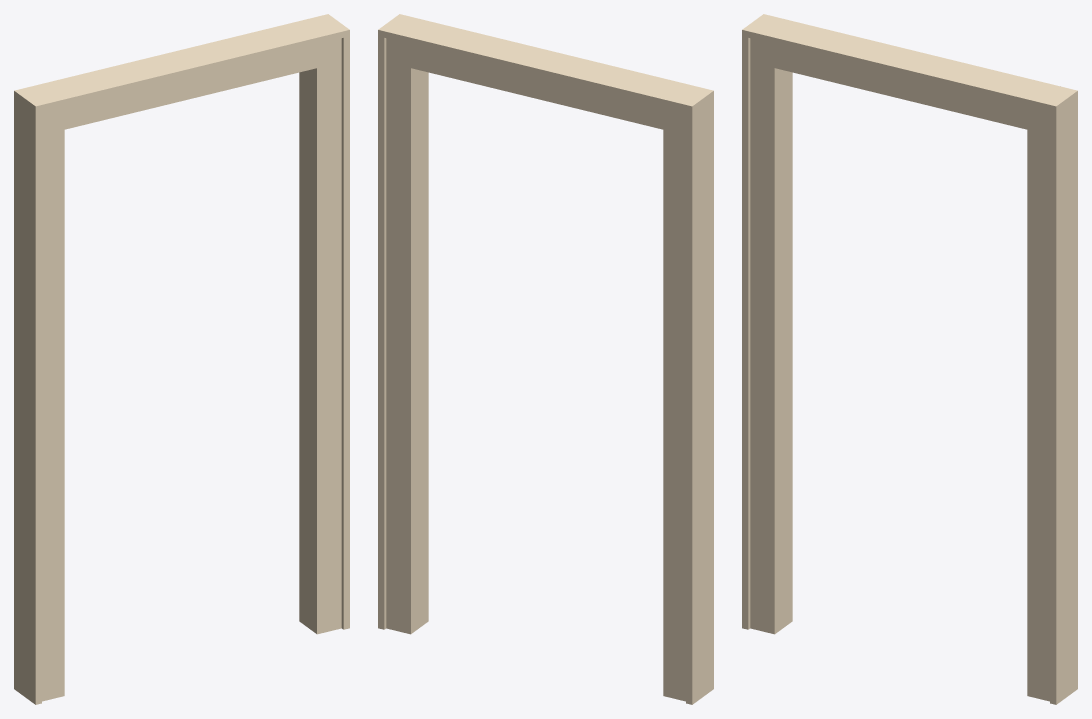
The model's file is M_Sem4_Prop_Tuer_FHaufe.fbx.
3 views of the same model, side by side, from view 1: azimuth 30°, elevation 25°; view 2: azimuth 150°, elevation 25°; view 3: azimuth 330°, elevation 25° (orthographic).
Visible parts, largest first — view 1: tuer; view 2: tuer; view 3: tuer.
Part boxes in pixels (x1=…): tuer: x1=14, y1=14, x2=349, y2=704; tuer: x1=378, y1=14, x2=713, y2=704; tuer: x1=742, y1=14, x2=1077, y2=704.
Bounding box in the file's own units: 122 × 223 × 14.58.
